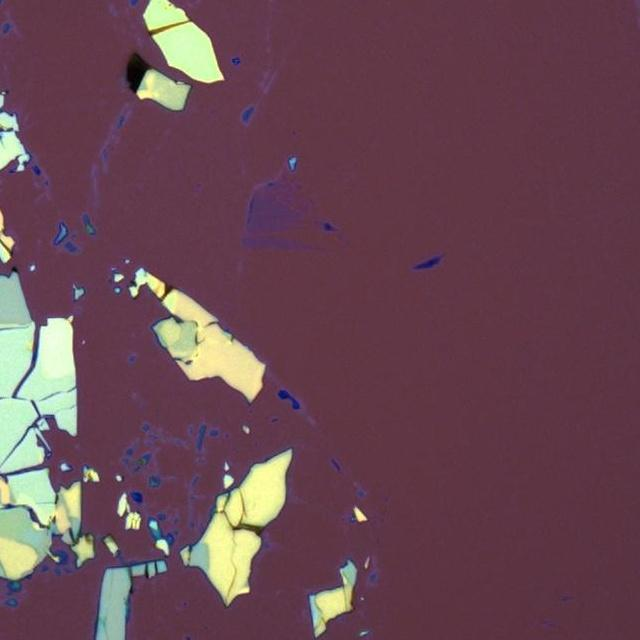monolayer-eWW4: (243, 174, 325, 257)
